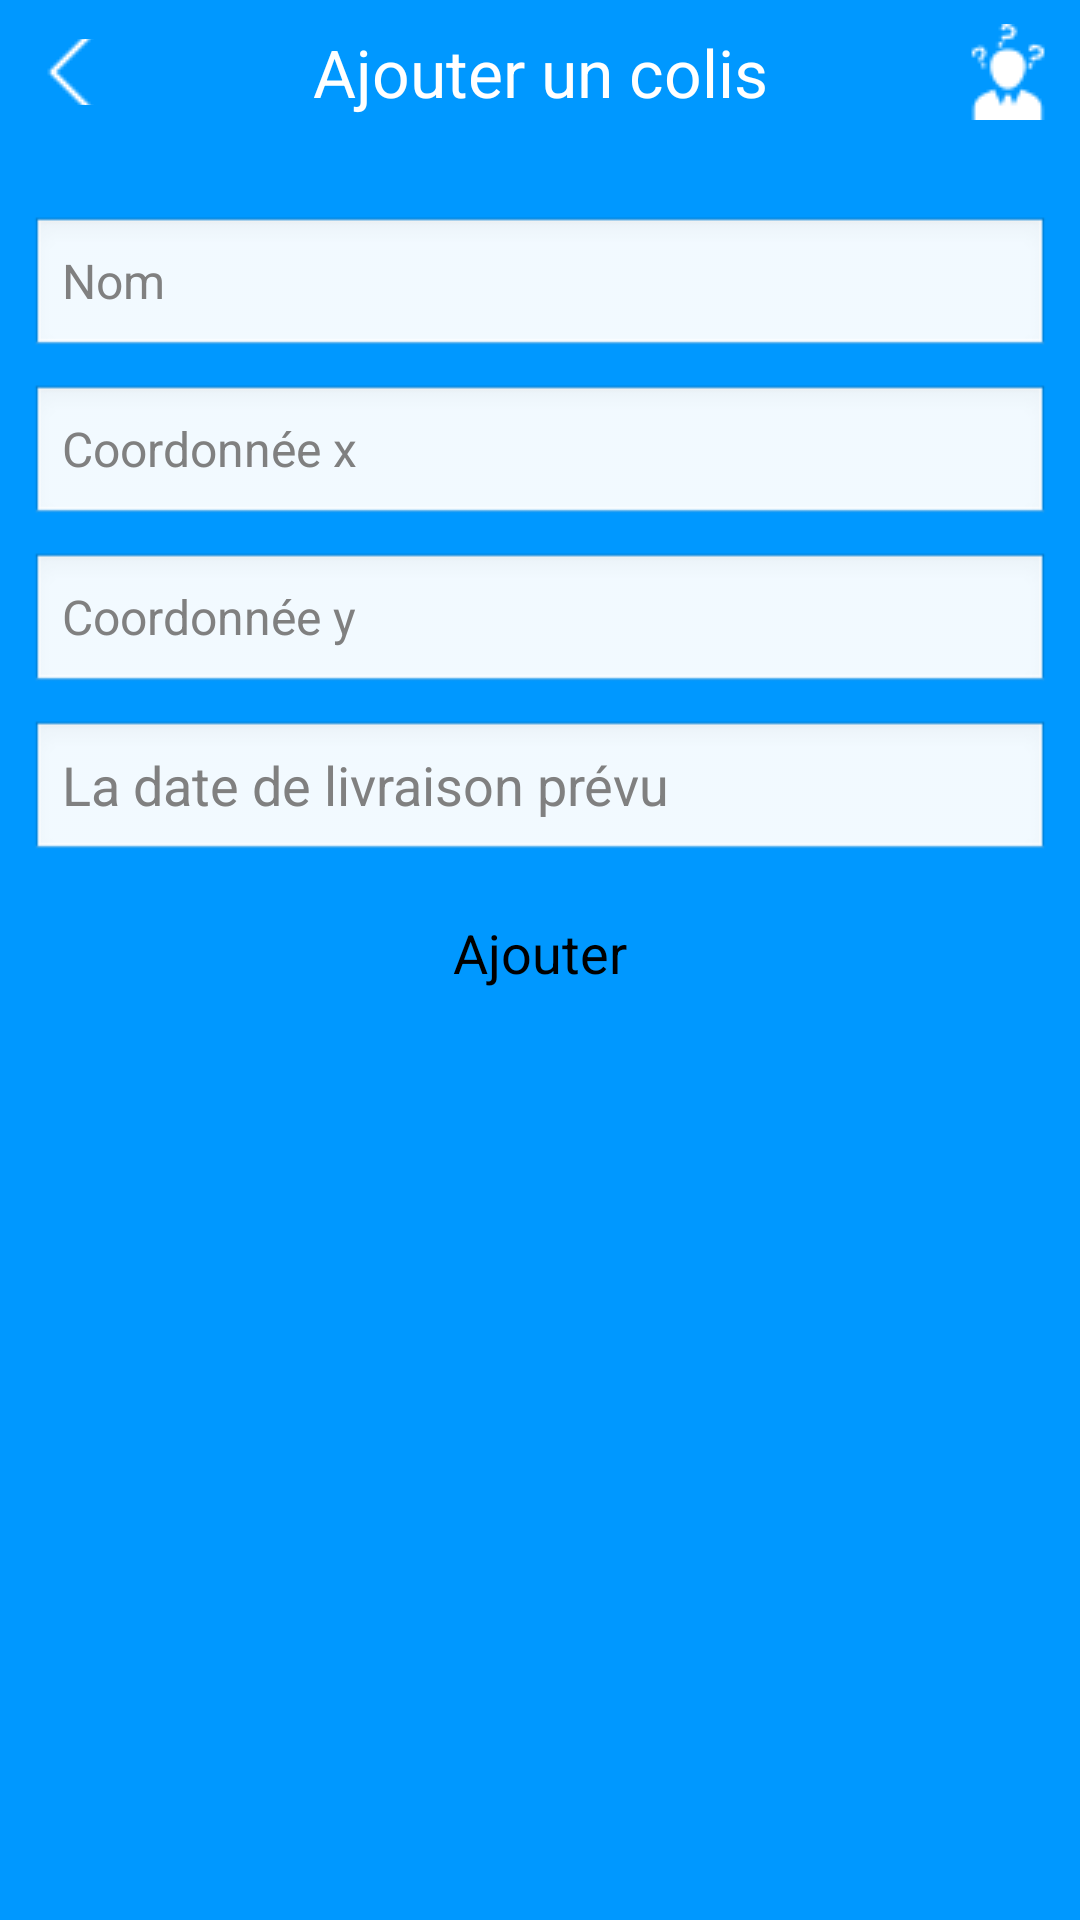

Where to tap for icons on this 1080 × 1920 app screen, as (x=x, y=y):
bouton de retour: (x=70, y=72)
faq: (x=1008, y=72)
